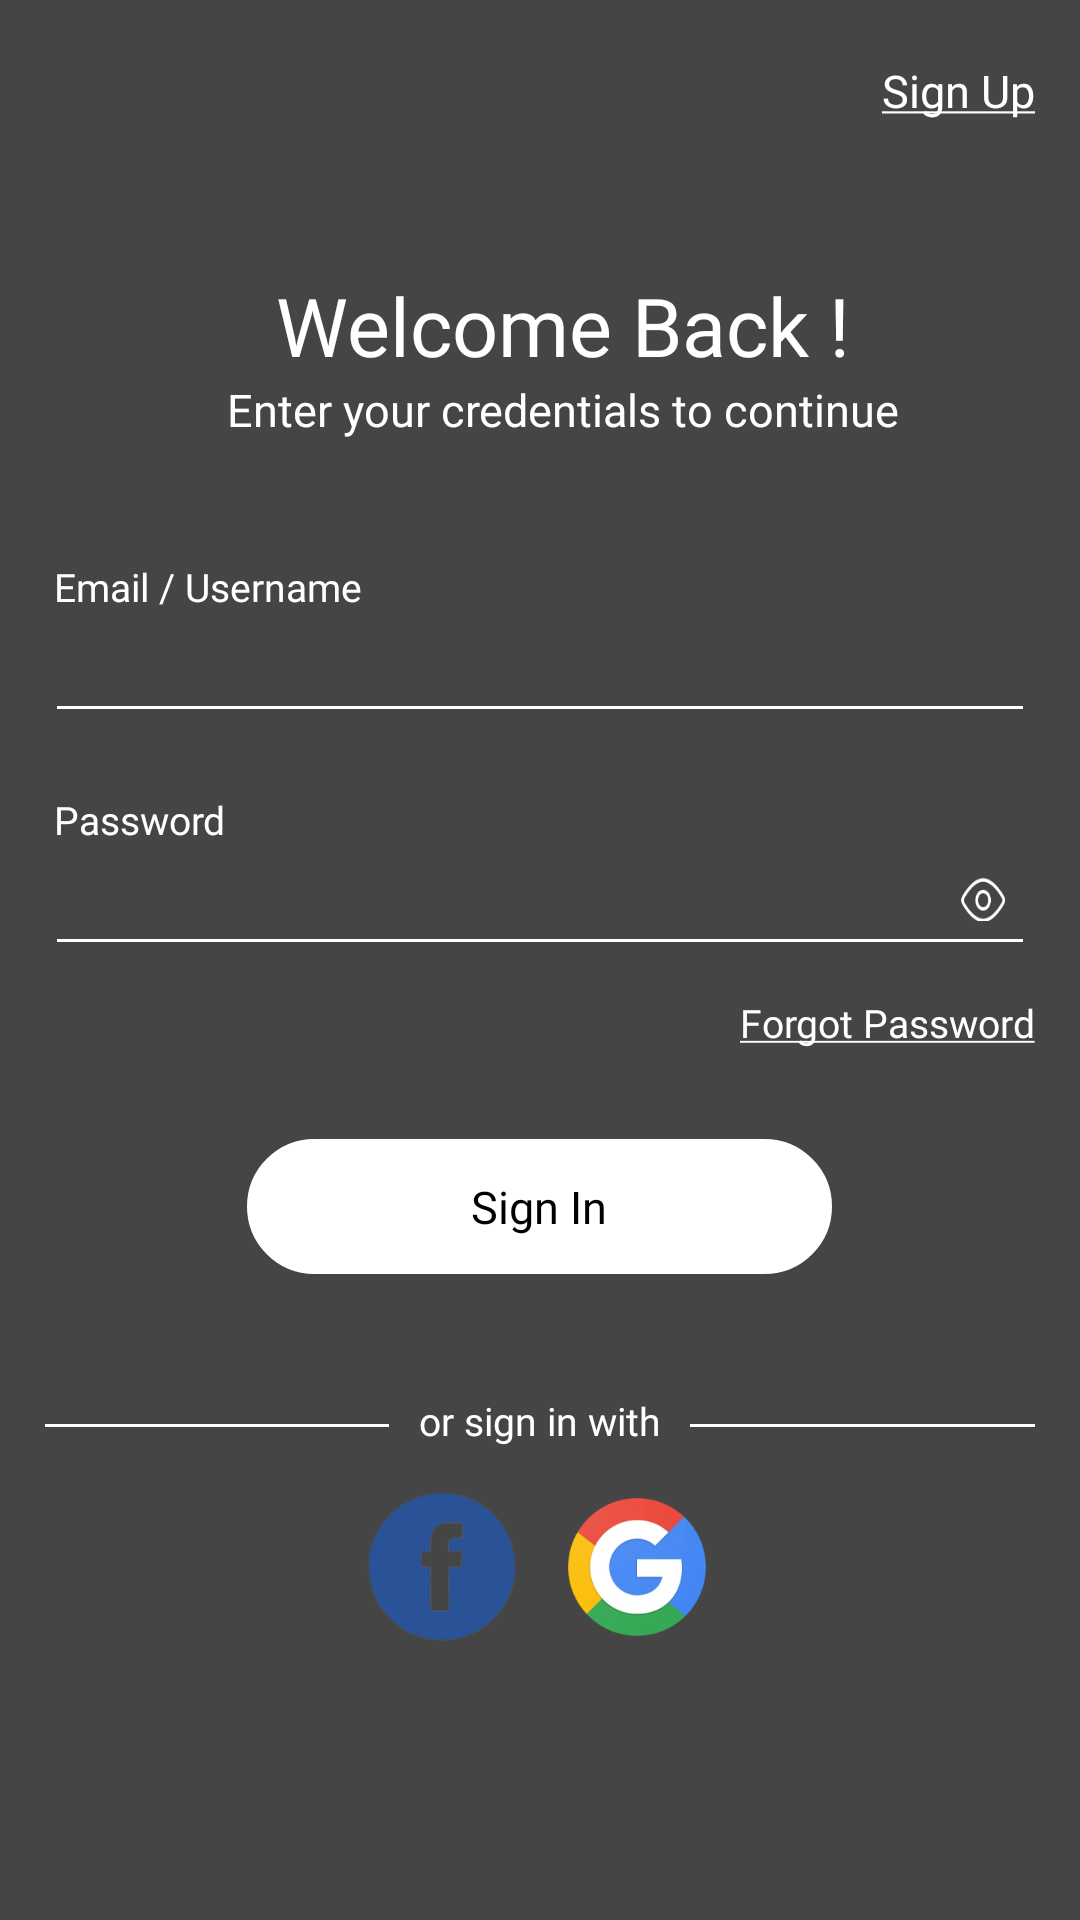

Where icons sit on this 1080x1920 app screen, as (left=x1, top=y1, right=x2, bottom=y2):
eye: (left=961, top=878, right=1005, bottom=921)
